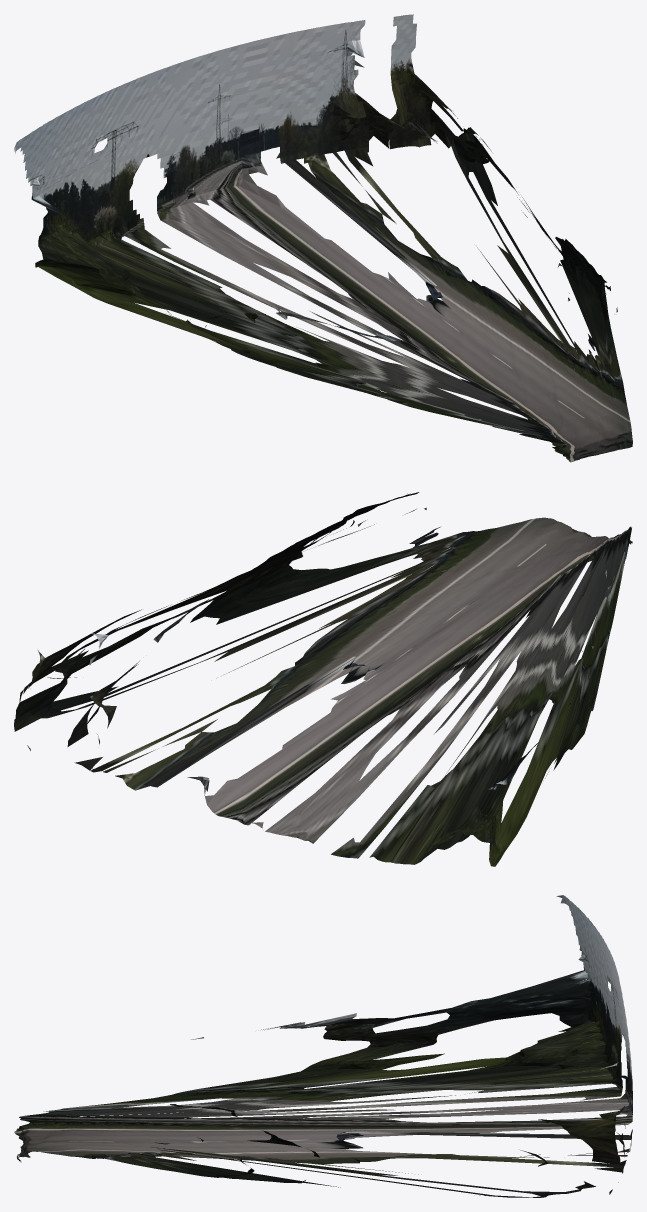
3 renders of one model, top to bottom at view 1: azimuth 30°, elevation 25°; view 2: azimuth 150°, elevation 25°; view 3: azimuth 270°, elevation 25°, orthographic. The views are drawn at different scales.
Visible parts, largest first — view 1: defaultobject; view 2: defaultobject; view 3: defaultobject.
Boxes of the visible parts, x1=… form: defaultobject: x1=14, y1=14, x2=632, y2=462; defaultobject: x1=14, y1=492, x2=632, y2=866; defaultobject: x1=14, y1=895, x2=632, y2=1197.
Bounding box in the file's own units: 33.51 × 11.68 × 44.62.
1 material, 1 textured.
